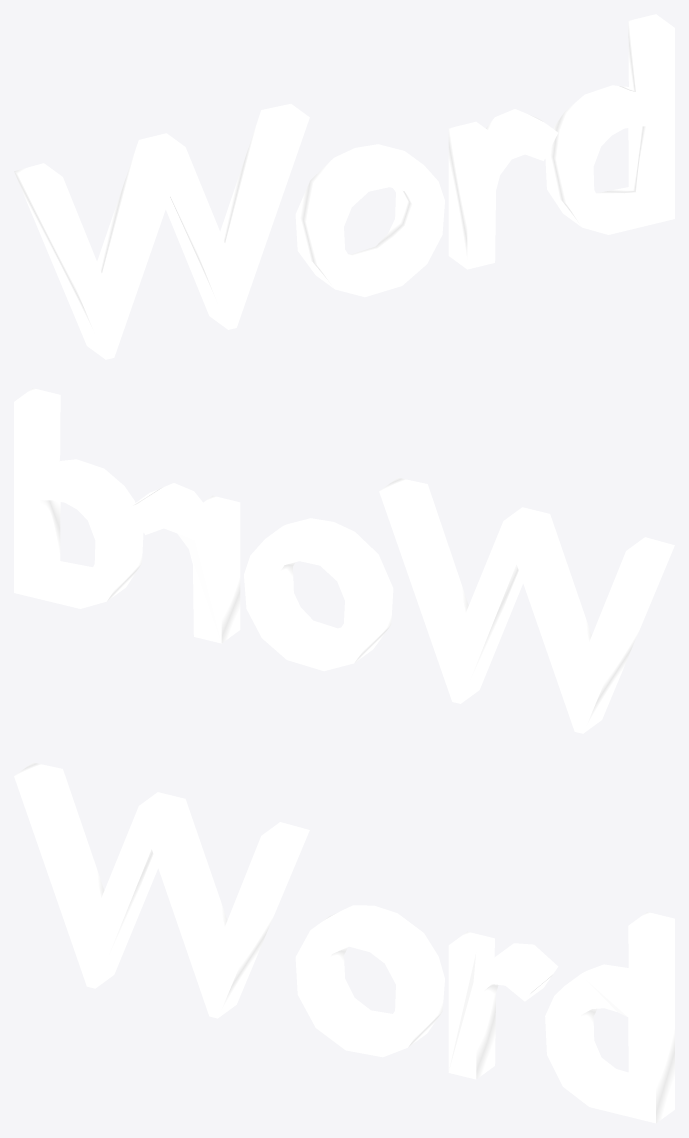
Rendered from textWord.glb.
The picture shows the model from 3 angles, top to bottom: view 1: azimuth 30°, elevation 25°; view 2: azimuth 150°, elevation 25°; view 3: azimuth 330°, elevation 25°; orthographic projection.
Visible parts, largest first — view 1: TextWords; view 2: TextWords; view 3: TextWords.
Part boxes in pixels (left/top/right/bottom): TextWords: left=14, top=14, right=674, bottom=359; TextWords: left=14, top=388, right=674, bottom=733; TextWords: left=14, top=762, right=674, bottom=1123.
Bounding box in the file's own units: 1.48 × 0.4259 × 0.0825.
1 material, 1 textured.
